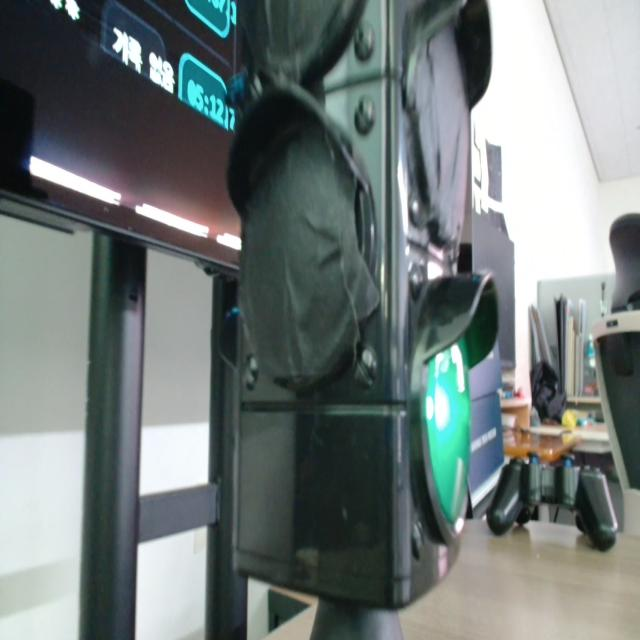green_light: (424, 341, 470, 525)
